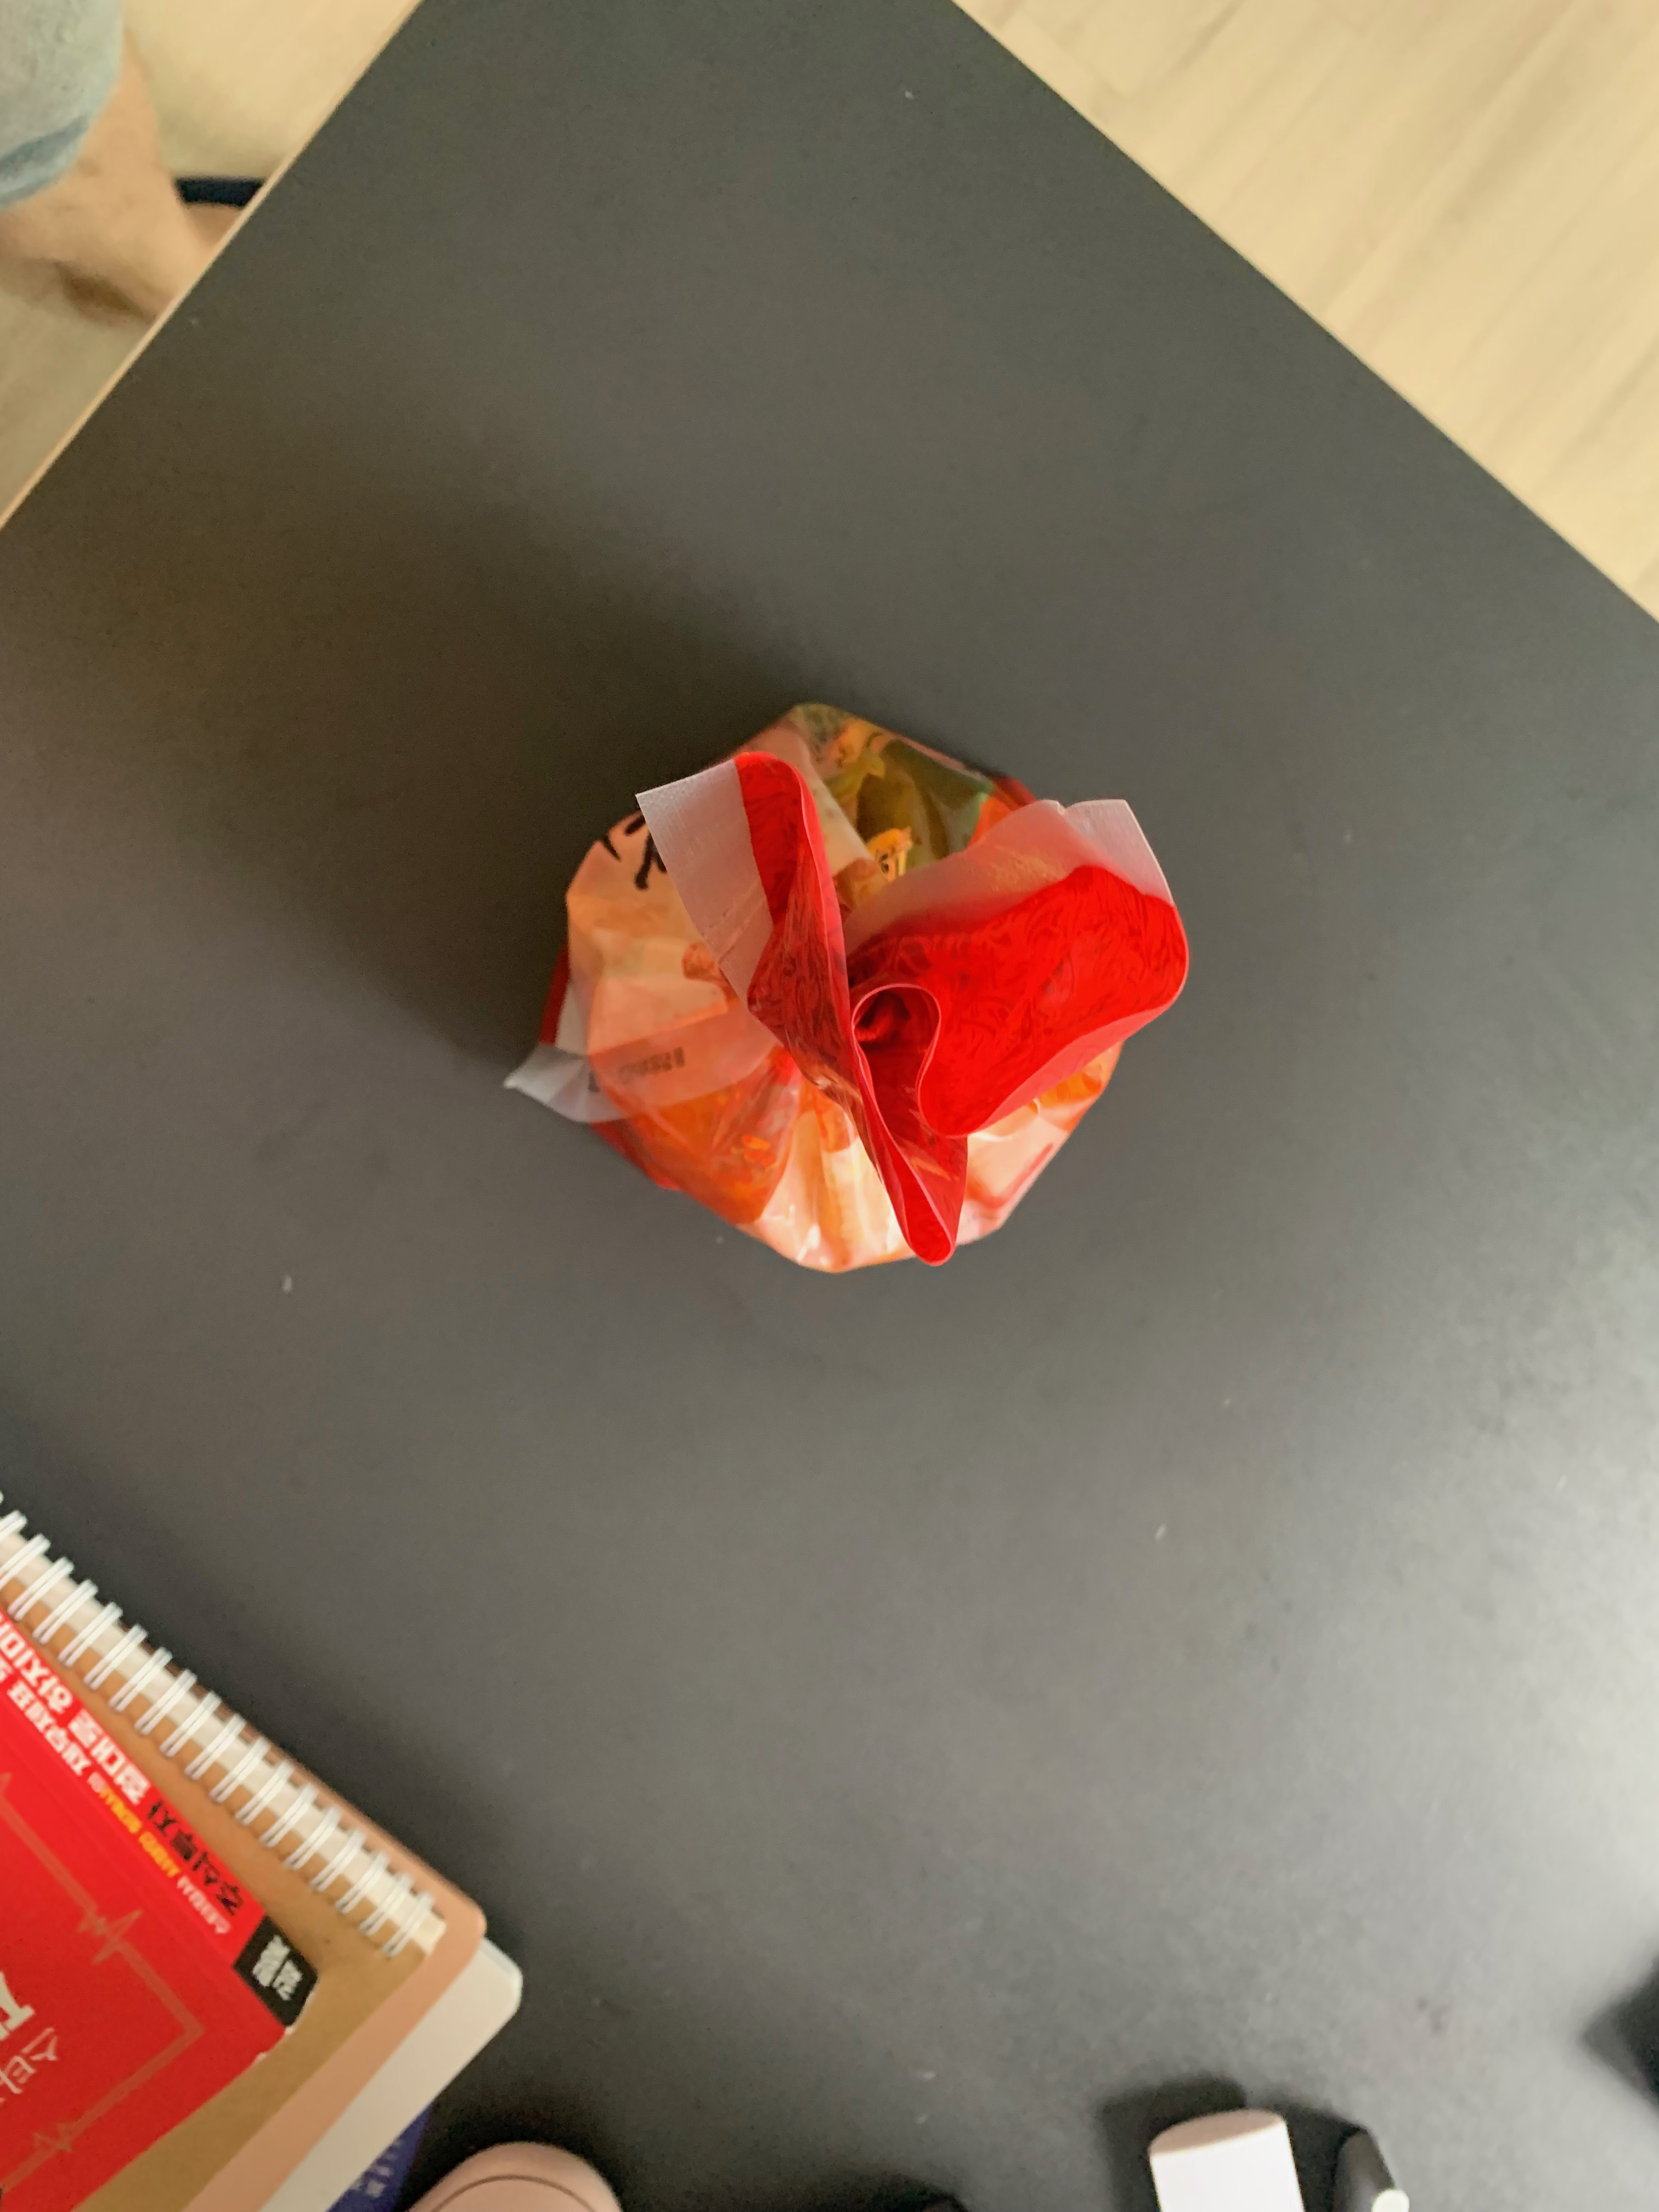kimchi: (563, 700, 1192, 1277)
